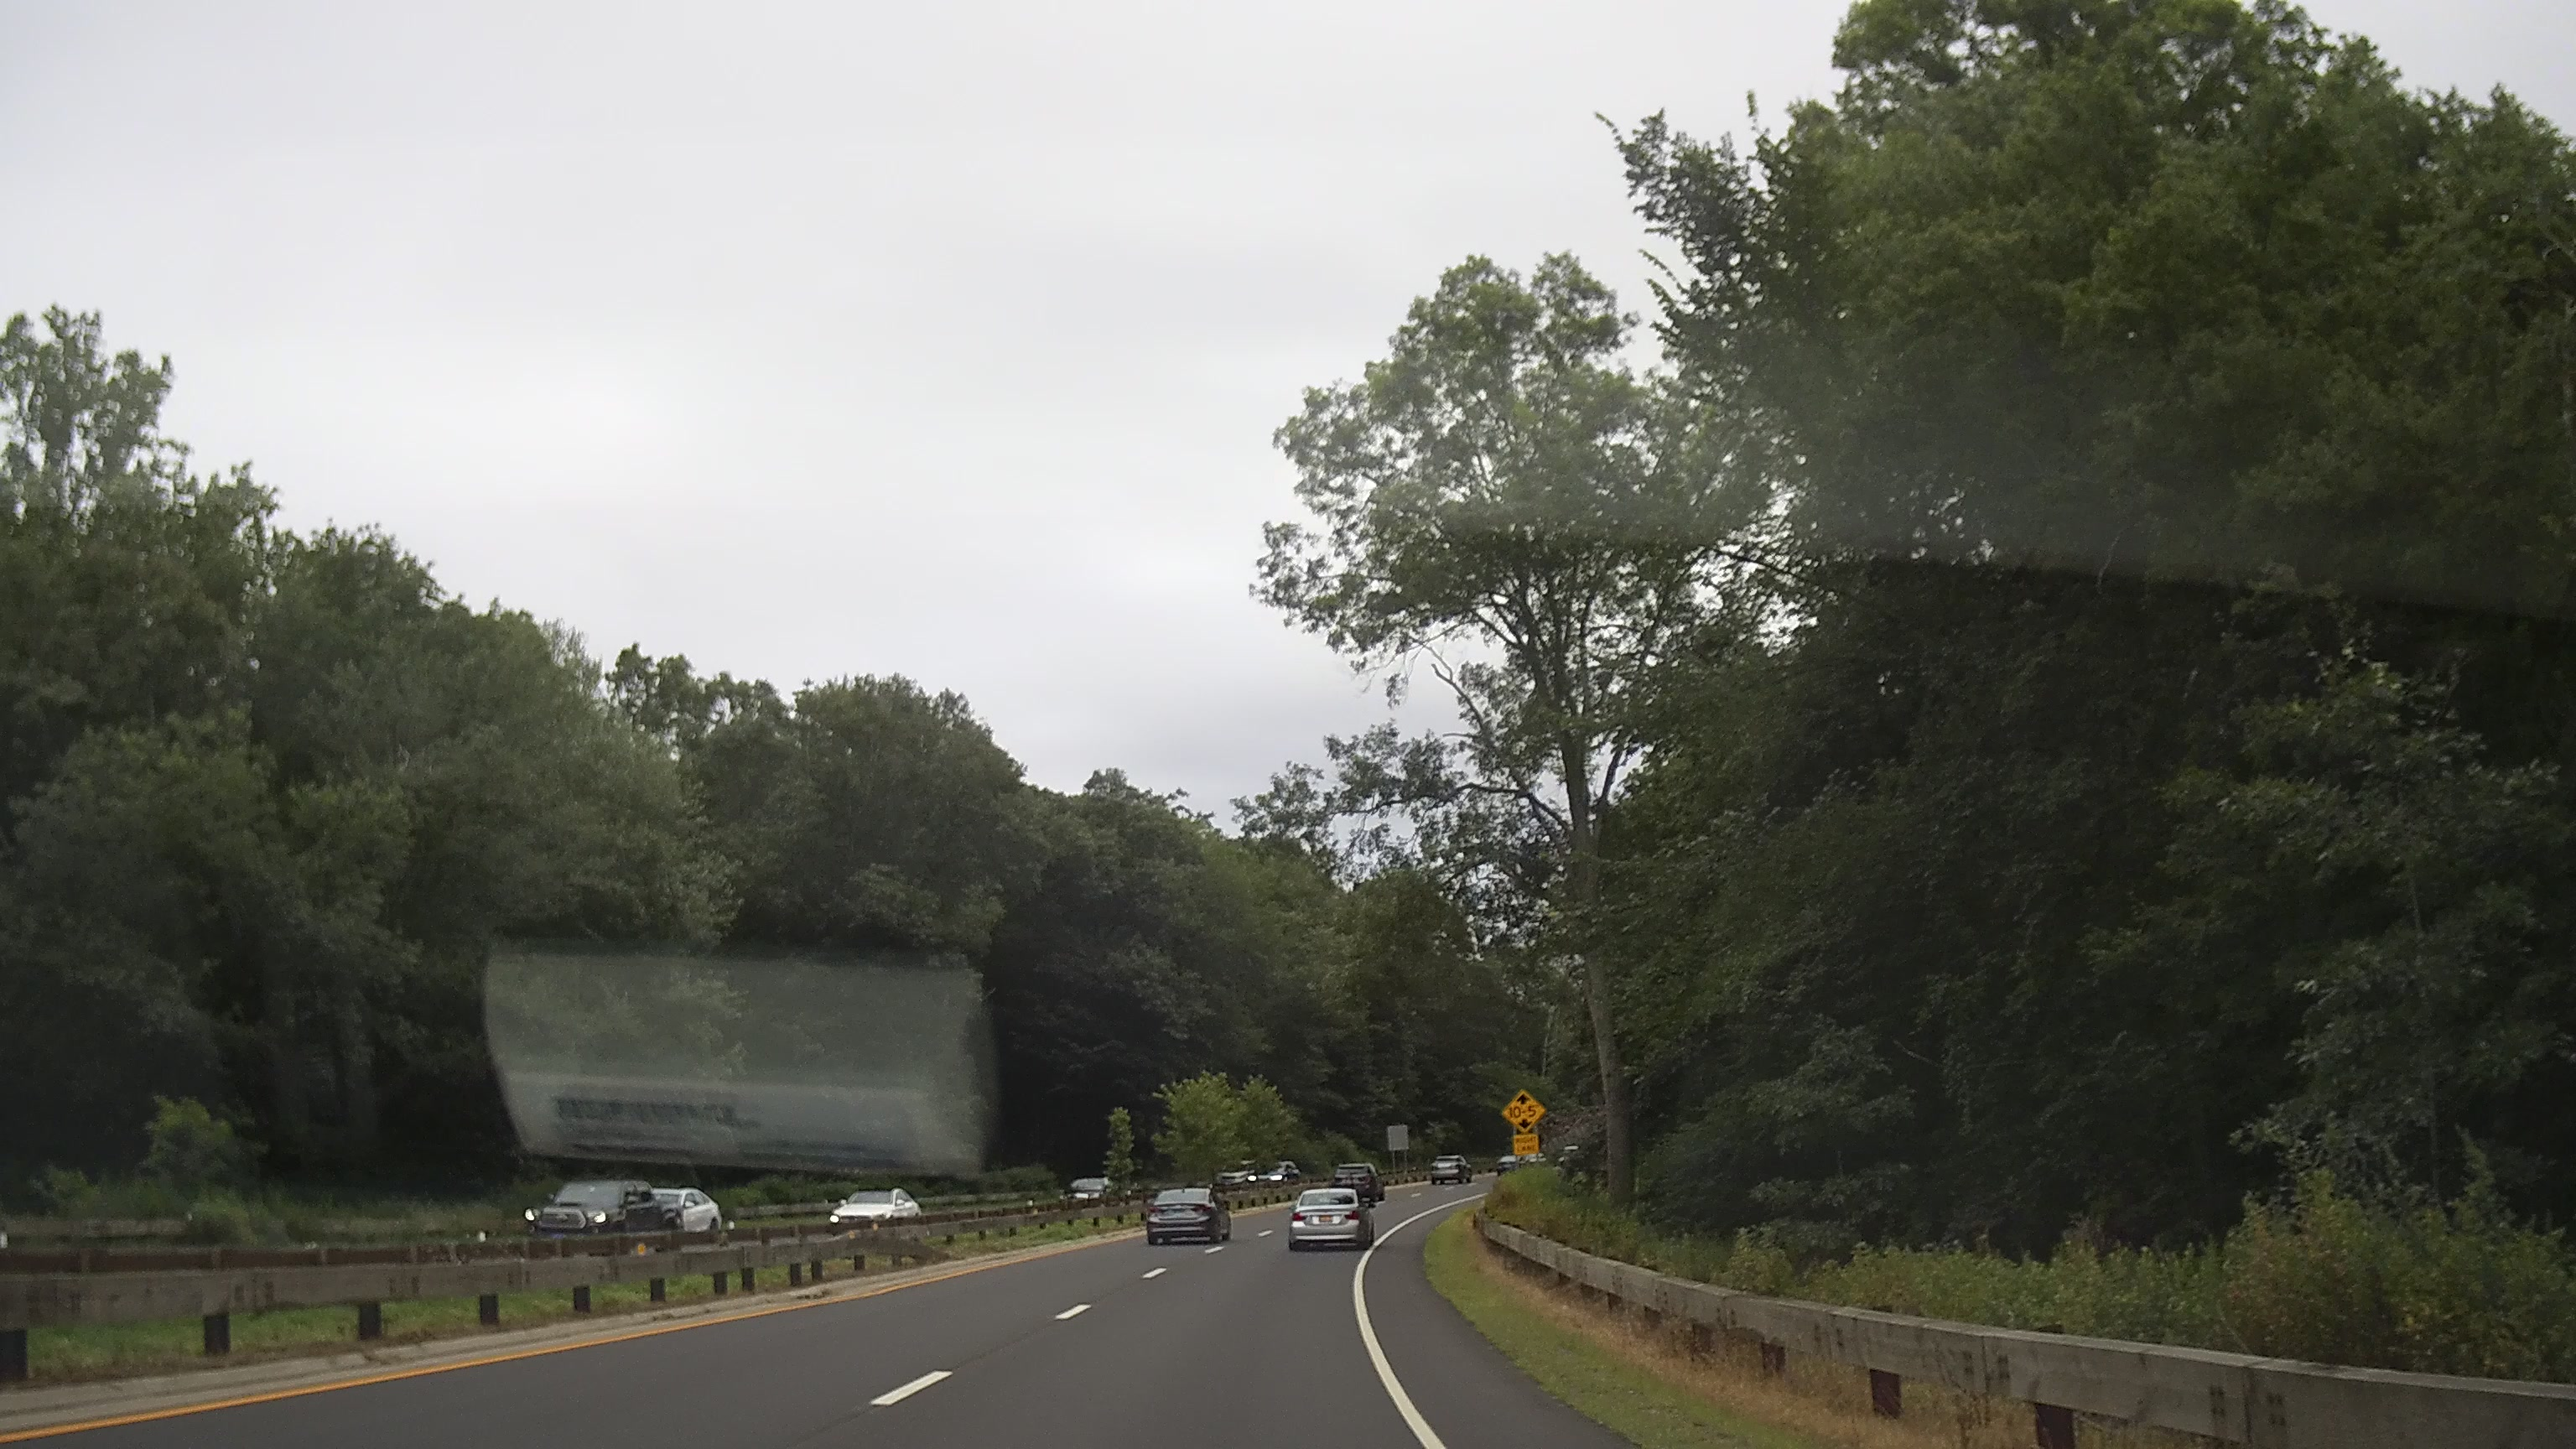low-clearance-sign: (1500, 1088, 1548, 1134)
